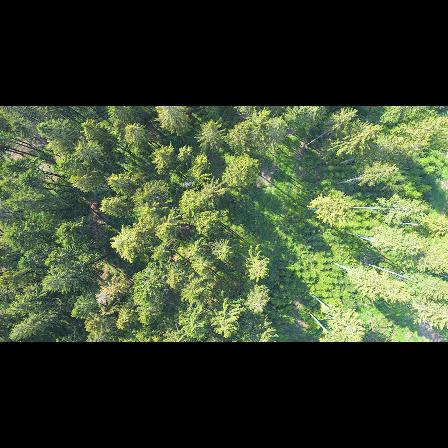Sick: (93, 287, 114, 308)
